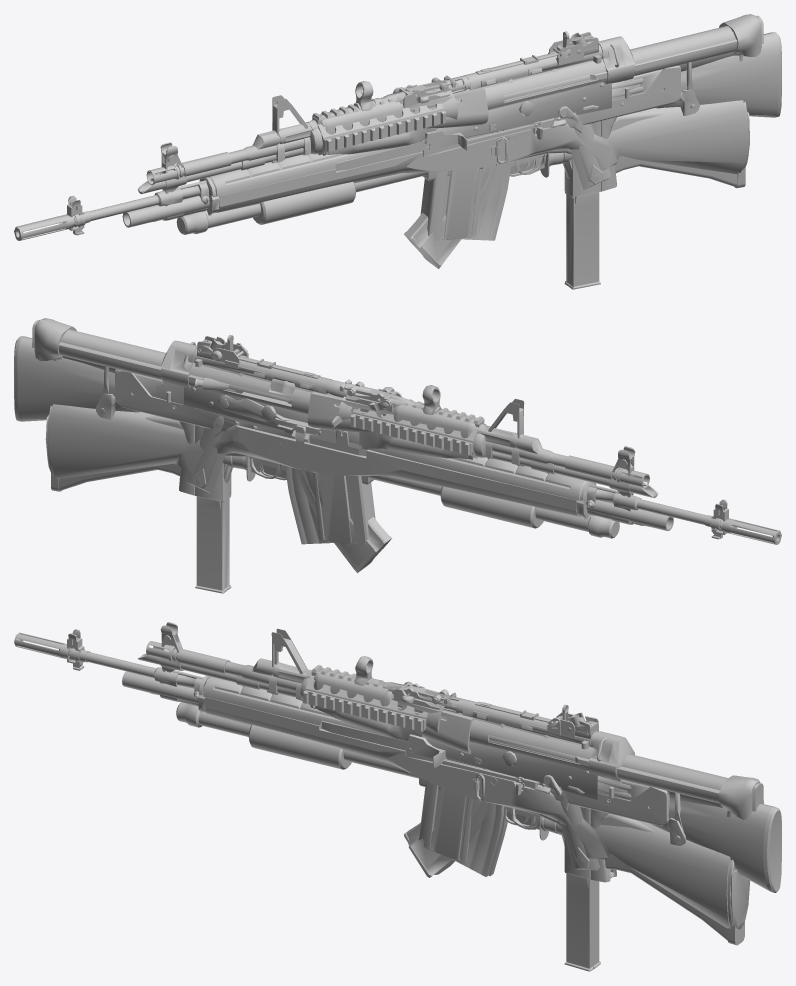
Rendered from arsenal.glb.
The picture shows the model from 3 angles, top to bottom: view 1: azimuth 30°, elevation 25°; view 2: azimuth 150°, elevation 25°; view 3: azimuth 330°, elevation 25°; orthographic projection.
Visible parts, largest first — view 1: Gun_M110_Mesh, Gun_M249_Mesh, Gun_MP5_Mesh, Gun_M4A1_Mesh, Gun_MP7_Mesh, Gun_M1014_Mesh, Gun_M9A1_Mesh, Gun_Knife_Mesh; view 2: Gun_M110_Mesh, Gun_M249_Mesh, Gun_MP5_Mesh, Gun_M4A1_Mesh, Gun_MP7_Mesh, Gun_M1014_Mesh, Gun_M9A1_Mesh, Gun_Knife_Mesh; view 3: Gun_M110_Mesh, Gun_M249_Mesh, Gun_MP5_Mesh, Gun_M4A1_Mesh, Gun_MP7_Mesh, Gun_M1014_Mesh, Gun_M9A1_Mesh, Gun_Knife_Mesh.
Part boxes in pixels (x1,y1,x2,y2): Gun_M110_Mesh: [14, 100, 749, 240]; Gun_M249_Mesh: [137, 32, 781, 268]; Gun_MP5_Mesh: [353, 14, 763, 197]; Gun_M4A1_Mesh: [146, 26, 743, 240]; Gun_MP7_Mesh: [503, 62, 699, 289]; Gun_M1014_Mesh: [122, 111, 745, 234]; Gun_M9A1_Mesh: [563, 105, 610, 189]; Gun_Knife_Mesh: [510, 152, 572, 177]; Gun_M110_Mesh: [45, 404, 781, 545]; Gun_M249_Mesh: [14, 336, 658, 572]; Gun_MP5_Mesh: [32, 318, 441, 501]; Gun_M4A1_Mesh: [53, 329, 649, 544]; Gun_MP7_Mesh: [96, 366, 289, 593]; Gun_M1014_Mesh: [51, 415, 673, 538]; Gun_M9A1_Mesh: [184, 416, 232, 493]; Gun_Knife_Mesh: [223, 455, 286, 481]; Gun_M110_Mesh: [14, 629, 750, 929]; Gun_M249_Mesh: [138, 622, 781, 892]; Gun_MP5_Mesh: [353, 656, 763, 828]; Gun_M4A1_Mesh: [146, 628, 730, 876]; Gun_MP7_Mesh: [489, 769, 685, 971]; Gun_M1014_Mesh: [122, 671, 744, 945]; Gun_M9A1_Mesh: [559, 785, 612, 870]; Gun_Knife_Mesh: [507, 807, 563, 840].
Bounding box in the file's own units: 1.31 × 0.4282 × 0.1031.
Materials: 10 (8 with a texture image).
